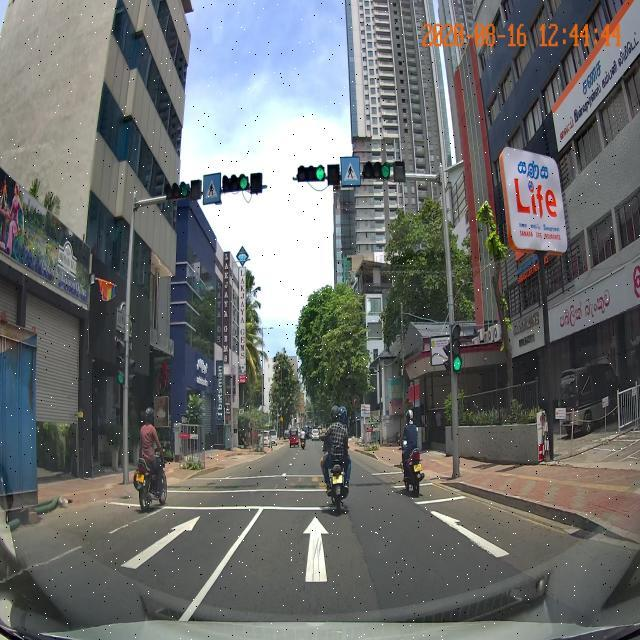forward: (217, 515, 459, 585)
